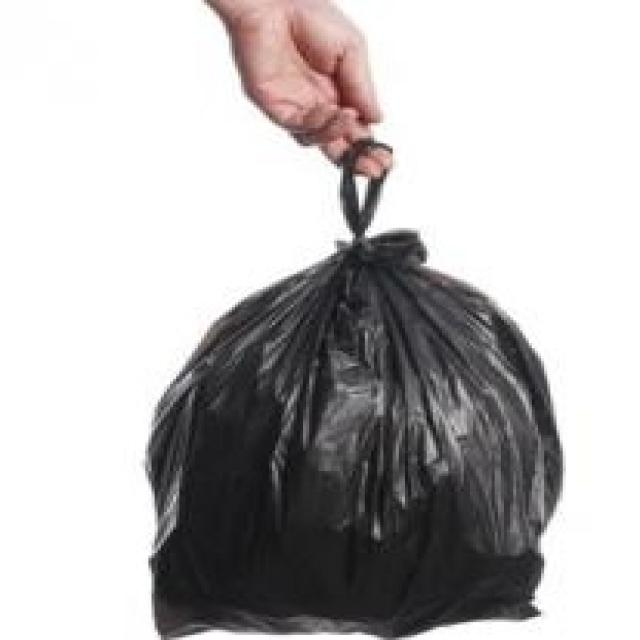sampah-detection: (135, 142, 568, 638)
